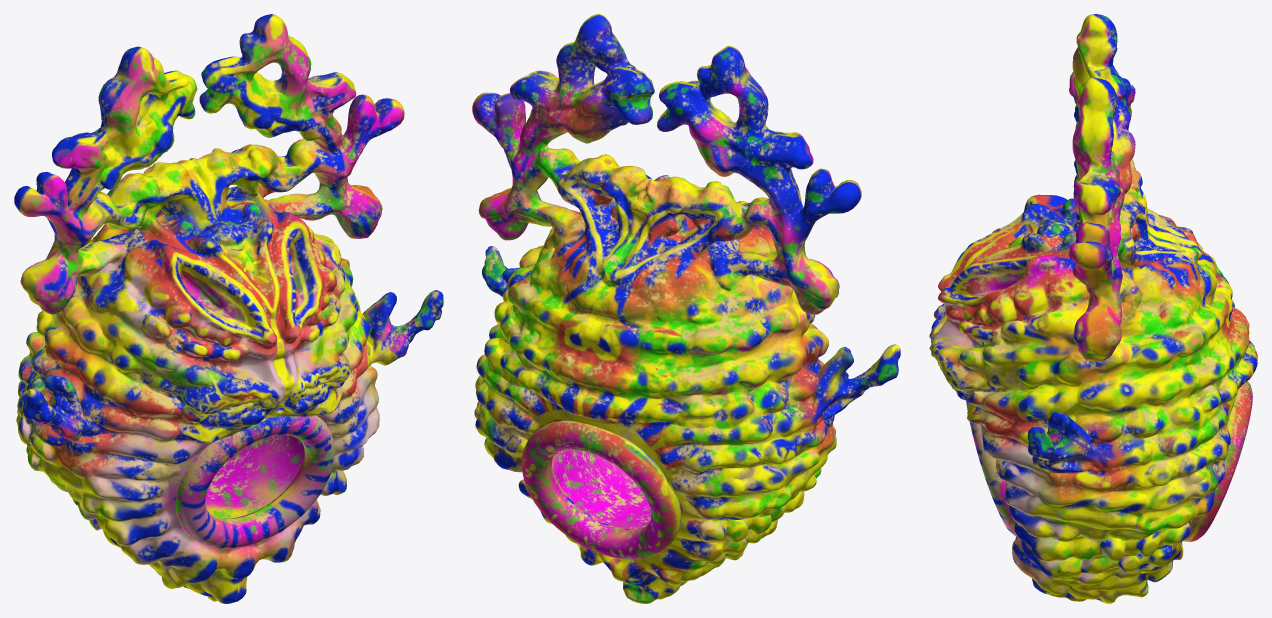
File: shr-mouth-arch.glb
3 views of the same model, side by side, from view 1: azimuth 30°, elevation 25°; view 2: azimuth 150°, elevation 25°; view 3: azimuth 270°, elevation 25° (orthographic).
Parts seen in each view (by area): view 1: geometry_0; view 2: geometry_0; view 3: geometry_0.
Boxes of the visible parts, <box> form: geometry_0: <box>14,14,443,603</box>; geometry_0: <box>472,14,900,603</box>; geometry_0: <box>929,14,1257,603</box>.
Size of the model in its own units: 0.7742 by 1 by 0.5357.
1 material, 1 textured.
